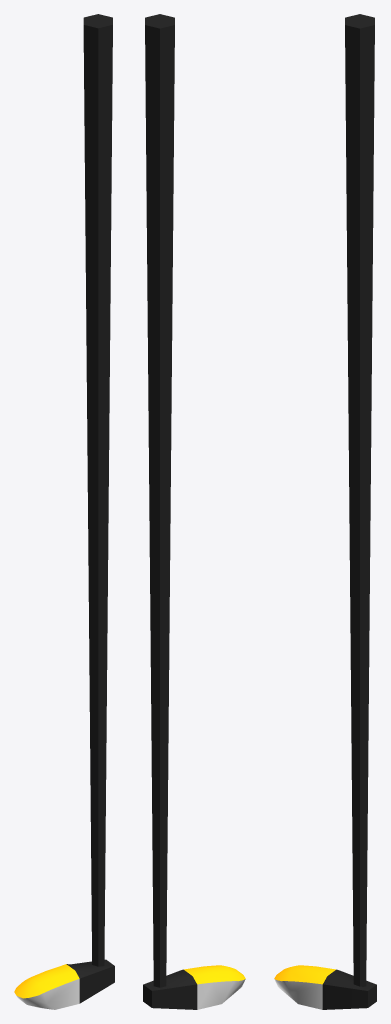
File: MyLamp.FBX
3 renders of one model, left to right at view 1: azimuth 30°, elevation 25°; view 2: azimuth 210°, elevation 25°; view 3: azimuth 330°, elevation 25°, orthographic. The views are drawn at different scales.
Parts seen in each view (by area): view 1: LampMesh; view 2: LampMesh; view 3: LampMesh.
Boxes of the visible parts, <box> form: LampMesh: <box>14,14,114,1009</box>; LampMesh: <box>143,14,245,1009</box>; LampMesh: <box>274,14,376,1009</box>.
Bounding box in the file's own units: 846 × 8133 × 272.
